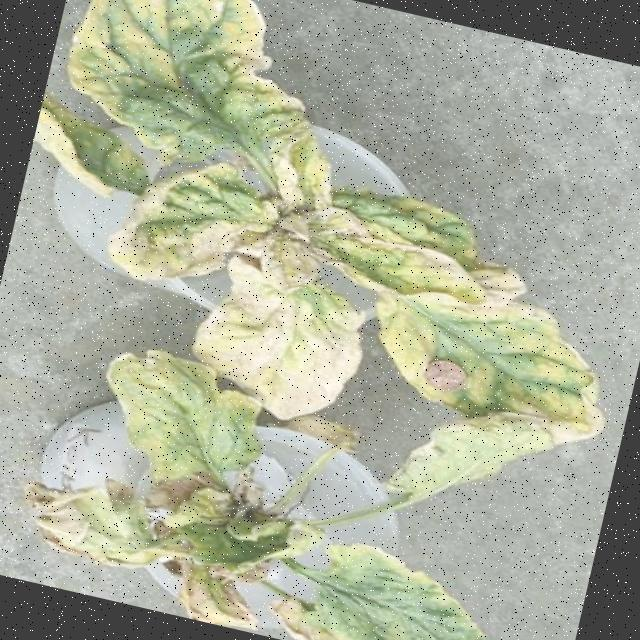Lettuce Mosaic Virus: (6, 0, 640, 472)
